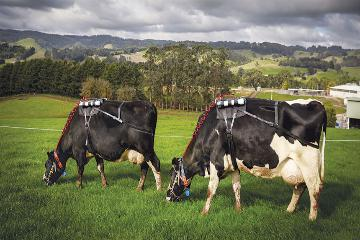cow: (166, 90, 329, 219), (39, 97, 163, 194)
